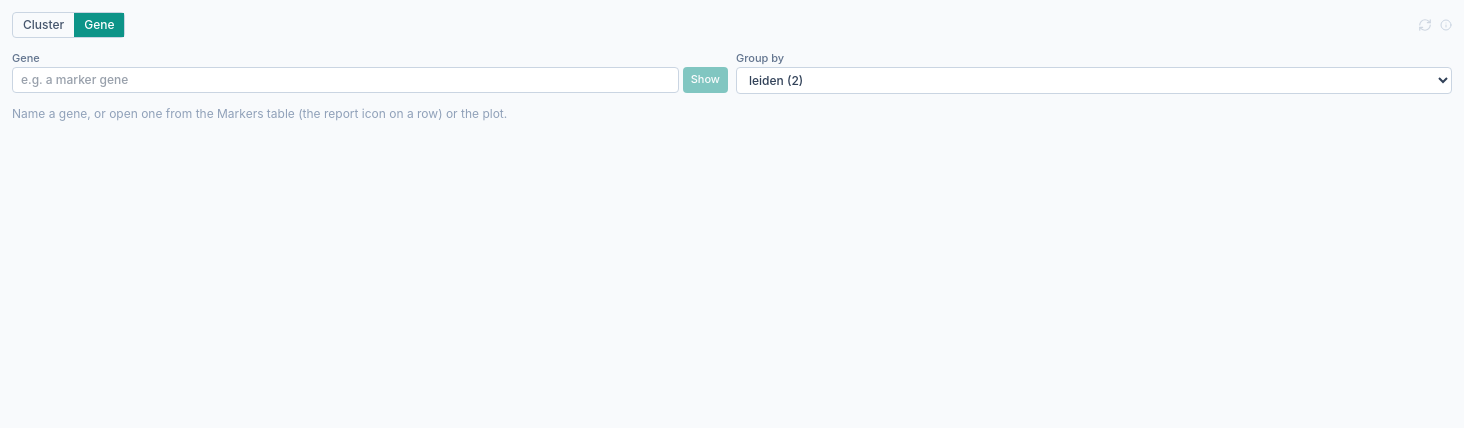
it: ReportSubtab › asks for a gene when none is on the plot
Expected: the text "Name a gene" is shown, [12,106,507,120]
Type "GNLY" into the field named "Report gene" at (345, 80), box [12,66,679,92]
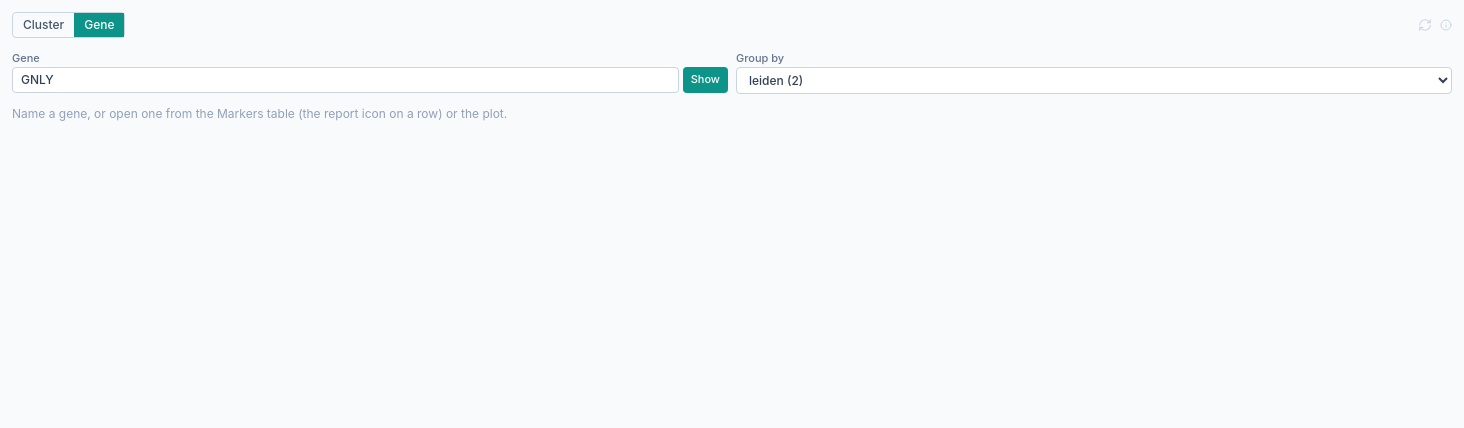
Click the button "Show" at (705, 80), box [683,66,728,92]
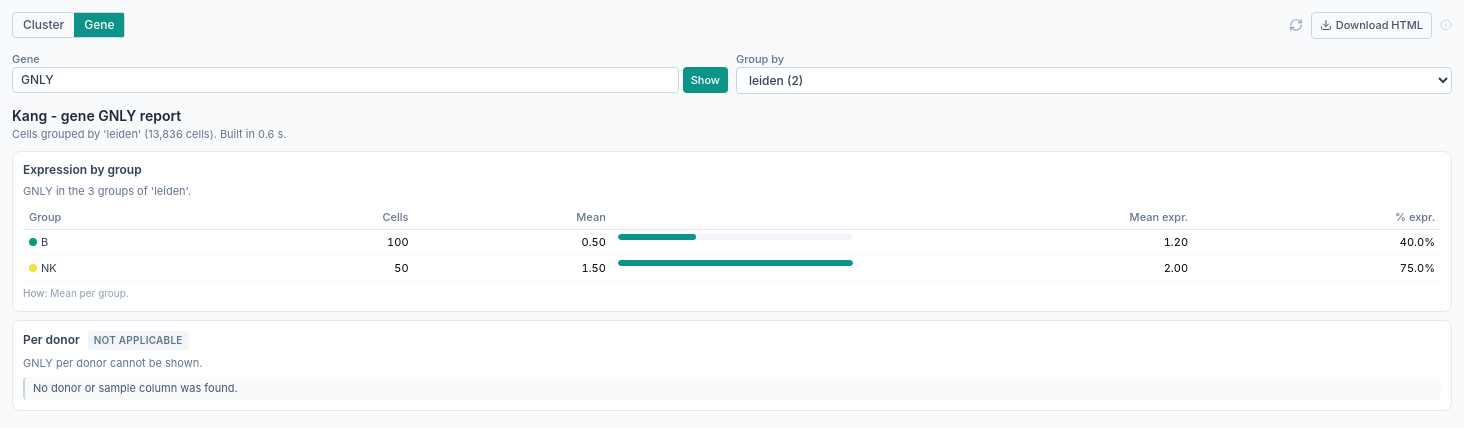
Expected: the heading "Kang - gene GNLY report" is shown, [12,107,181,124]
